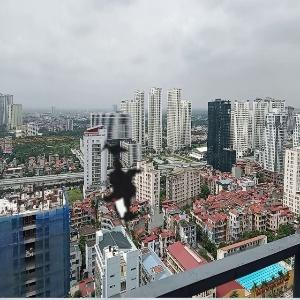drone: (48, 118, 180, 250)
